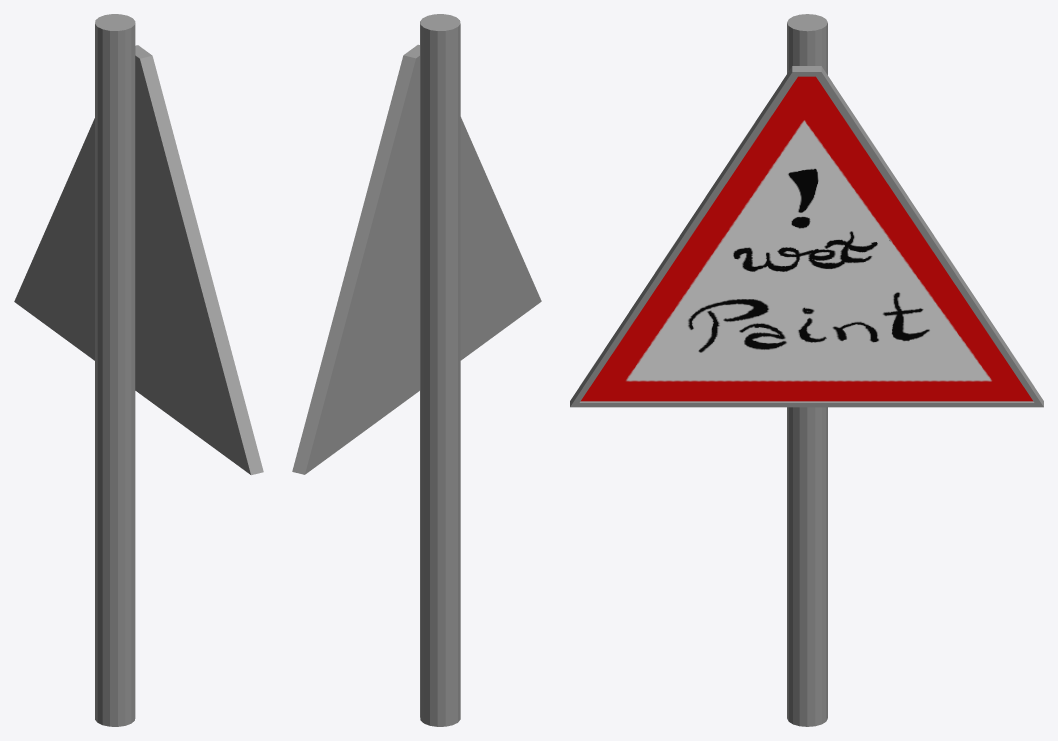
Rendered from Sign2.fbx.
The picture shows the model from 3 angles, left to right: view 1: azimuth 30°, elevation 25°; view 2: azimuth 150°, elevation 25°; view 3: azimuth 270°, elevation 25°; orthographic projection.
Parts seen in each view (by area): view 1: Sign2; view 2: Sign2; view 3: Sign2.
Part boxes in pixels (box(x1,y1,x2,y2)): Sign2: box(14, 14, 263, 726); Sign2: box(292, 14, 541, 726); Sign2: box(570, 14, 1043, 726).
Size of the model in its own units: 0.232 by 3.24 by 2.
